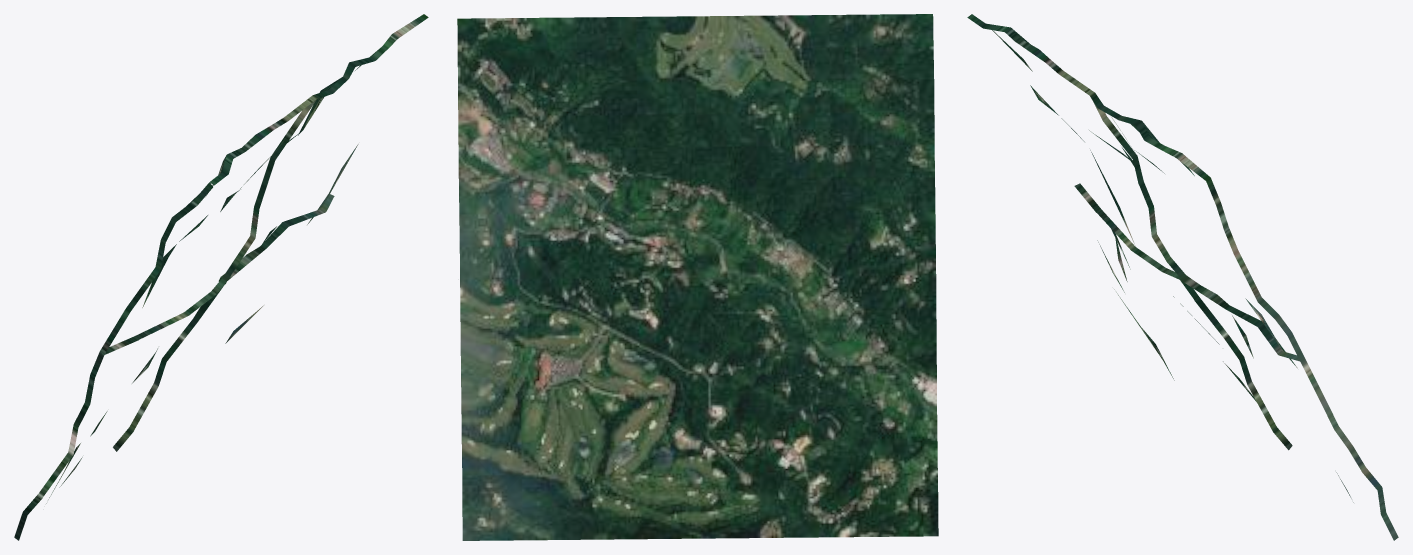
3 views of the same model, side by side, from view 1: azimuth 30°, elevation 25°; view 2: azimuth 150°, elevation 25°; view 3: azimuth 270°, elevation 25° (orthographic). The views are drawn at different scales.
Bounding box in the file's own units: 2474 × 2222 × 2097.
Materials: 1 (1 with a texture image).
